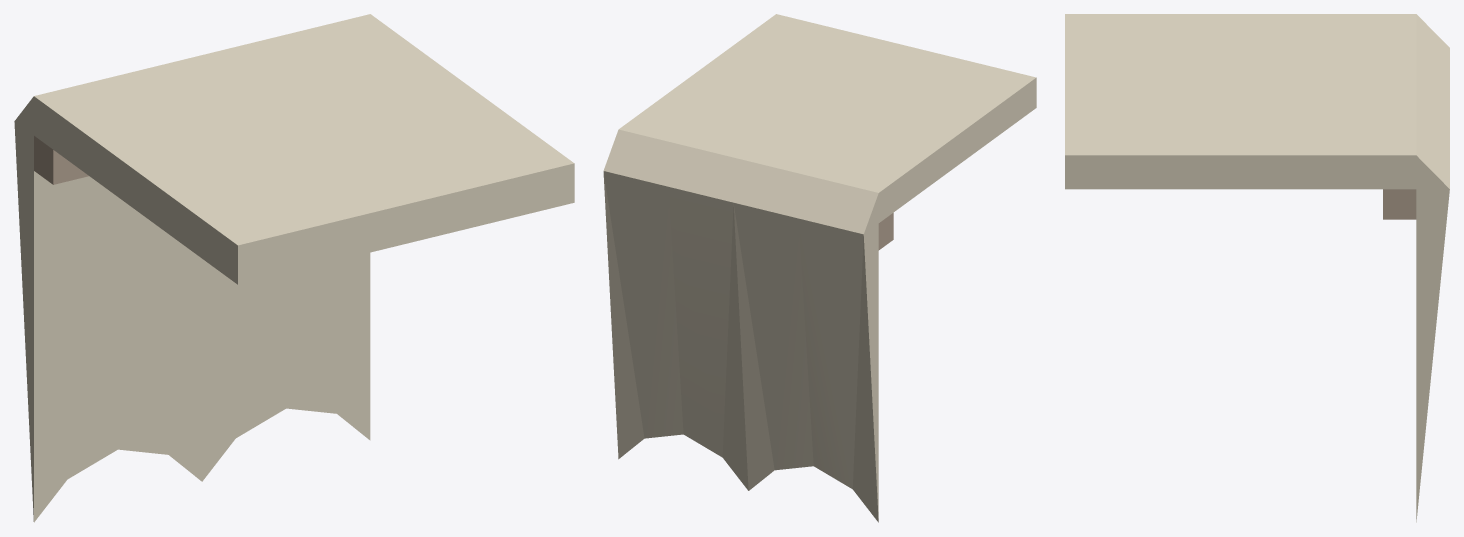
The model's file is Canopy_Side.glb.
The picture shows the model from 3 angles, left to right: view 1: azimuth 30°, elevation 25°; view 2: azimuth 150°, elevation 25°; view 3: azimuth 270°, elevation 25°; orthographic projection. The views are drawn at different scales.
Parts seen in each view (by area): view 1: object2, object1; view 2: object2; view 3: object2, object1.
Part boxes in pixels (left/top/right/bottom): object2: left=14, top=14, right=574, bottom=522; object1: left=34, top=136, right=88, bottom=184; object2: left=603, top=14, right=1036, bottom=522; object2: left=1065, top=14, right=1449, bottom=522; object1: left=1383, top=189, right=1416, bottom=219.
Size of the model in its own units: 1 by 1.21 by 1.15.
